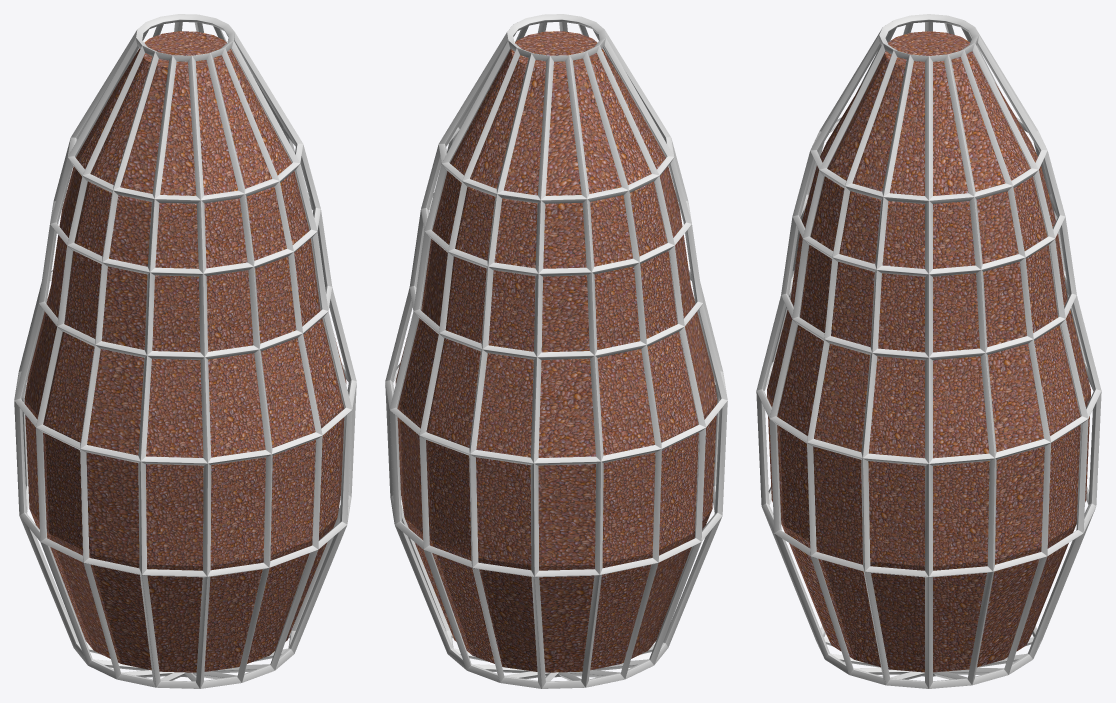
The model's file is Project BirdHouseFood.fbx.
The picture shows the model from 3 angles, left to right: view 1: azimuth 30°, elevation 25°; view 2: azimuth 150°, elevation 25°; view 3: azimuth 270°, elevation 25°; orthographic projection.
Visible parts, largest first — view 1: Cylinder; view 2: Cylinder; view 3: Cylinder.
Boxes of the visible parts, <box> form: Cylinder: <box>14,14,356,688</box>; Cylinder: <box>385,14,727,688</box>; Cylinder: <box>756,14,1101,688</box>.
Bounding box in the file's own units: 22.7 × 45.99 × 22.7.
